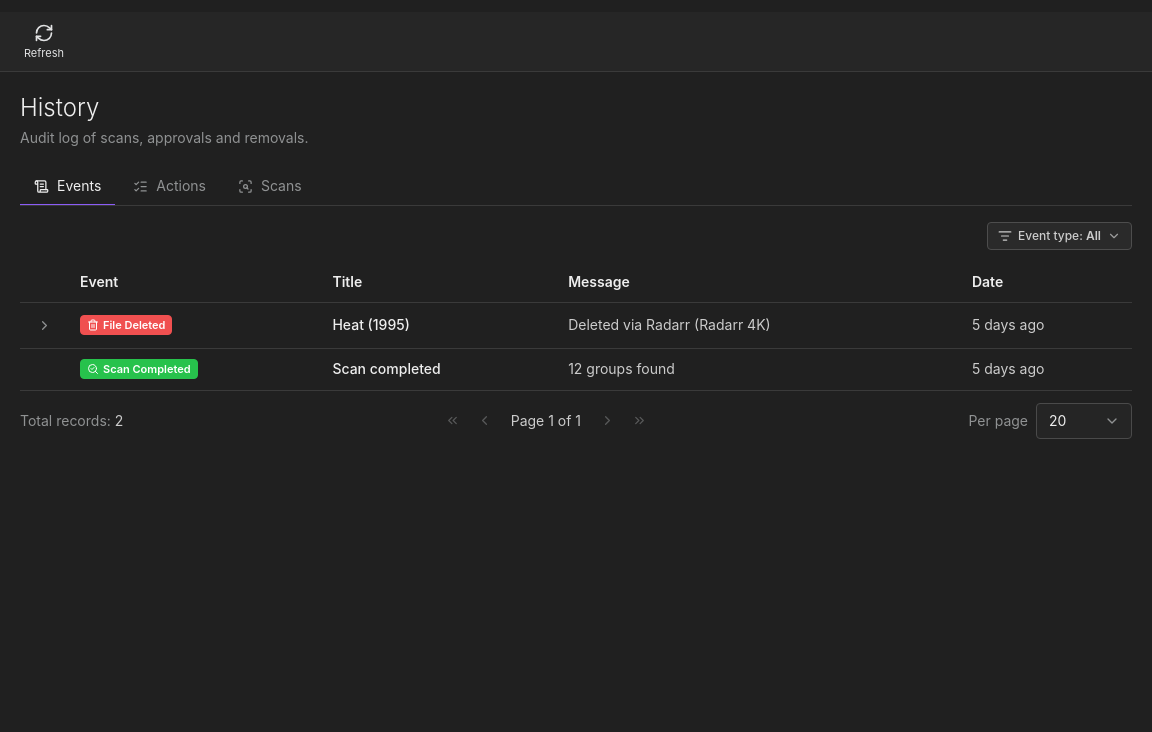
Test case: <HistoryPage> events › shows events with type badges, group links and expandable data
Check: the text "File Deleted" is shown, box [103,317,166,333]
Check: the text "Scan Completed" is shown, box [103,360,191,376]
Click the button named "Show details of File Deleted event" at (44, 325), box [32,313,56,337]
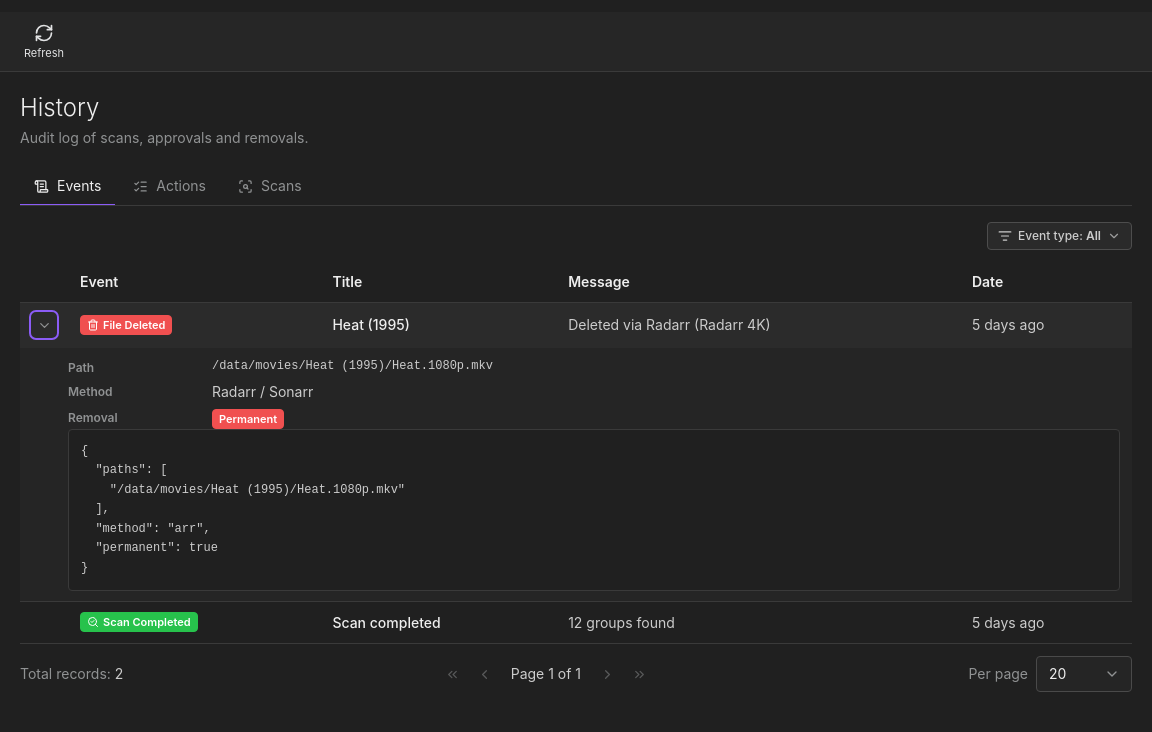
Check: the text "Permanent" is shown, box [219,410,277,426]
Check: the text "Radarr / Sonarr" is shown, box [212,382,313,400]
Check: the list item "/data/movies/Heat (1995)/Heat.1080p.mkv" is shown, box [212,358,493,372]
